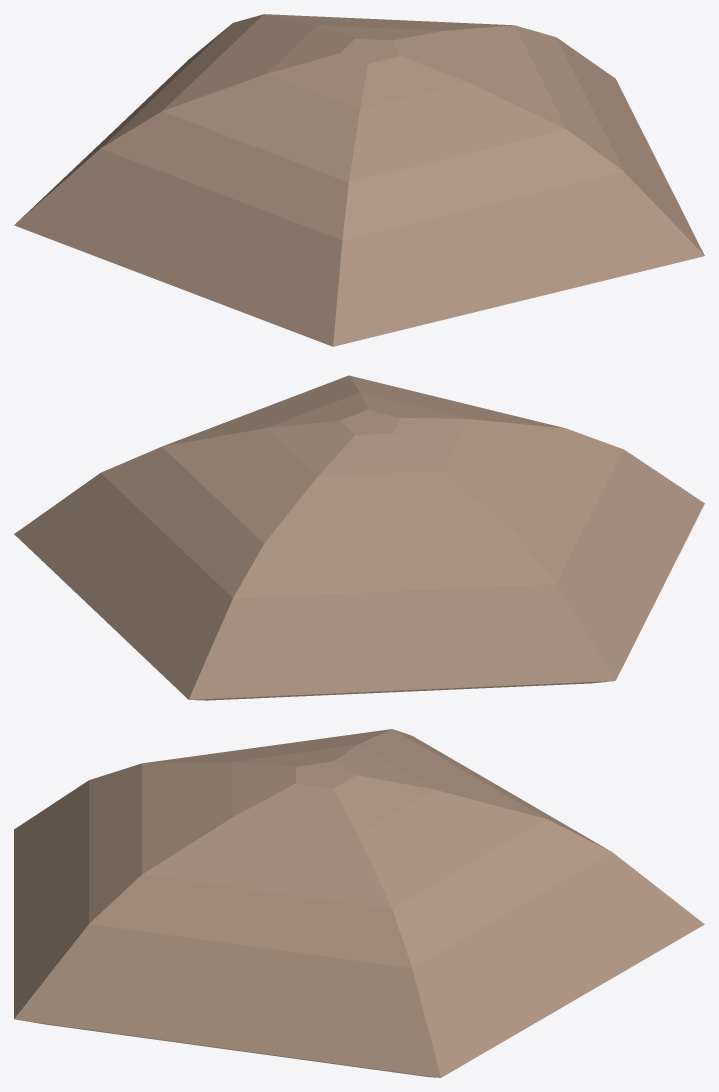
The model's file is Mushroom_03.fbx.
3 views of the same model, one above another, from view 1: azimuth 30°, elevation 25°; view 2: azimuth 150°, elevation 25°; view 3: azimuth 270°, elevation 25° (orthographic). The views are drawn at different scales.
Visible parts, largest first — view 1: Mushroom_03; view 2: Mushroom_03; view 3: Mushroom_03.
Boxes of the visible parts, x1,y1,x2,y2 form: Mushroom_03: (14, 14, 704, 346); Mushroom_03: (14, 375, 704, 700); Mushroom_03: (14, 729, 704, 1077).
Size of the model in its own units: 175 by 62.4 by 167.
